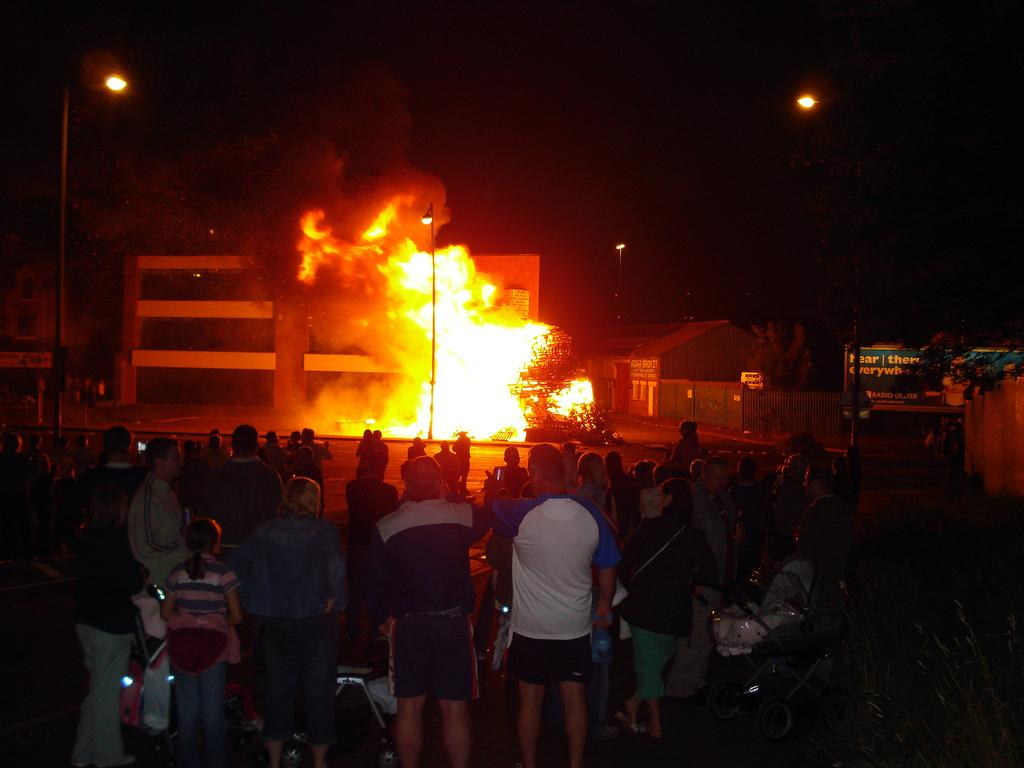fire: (440, 322, 524, 444)
